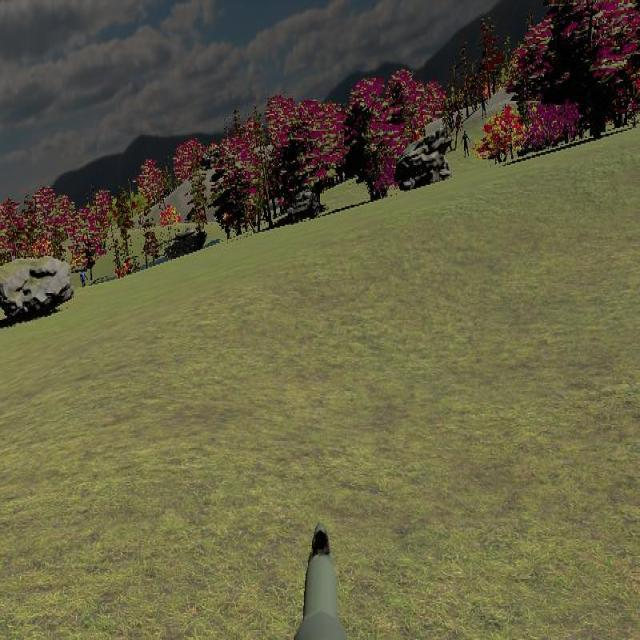Tank: (154, 226, 207, 259), (288, 188, 320, 224)
